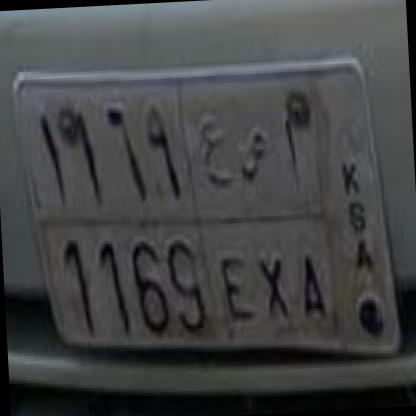english: (16, 192, 340, 366)
